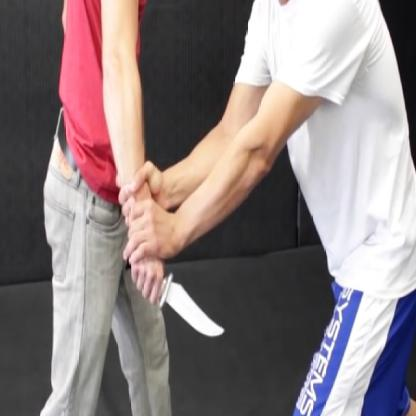knife: (118, 248, 232, 352)
